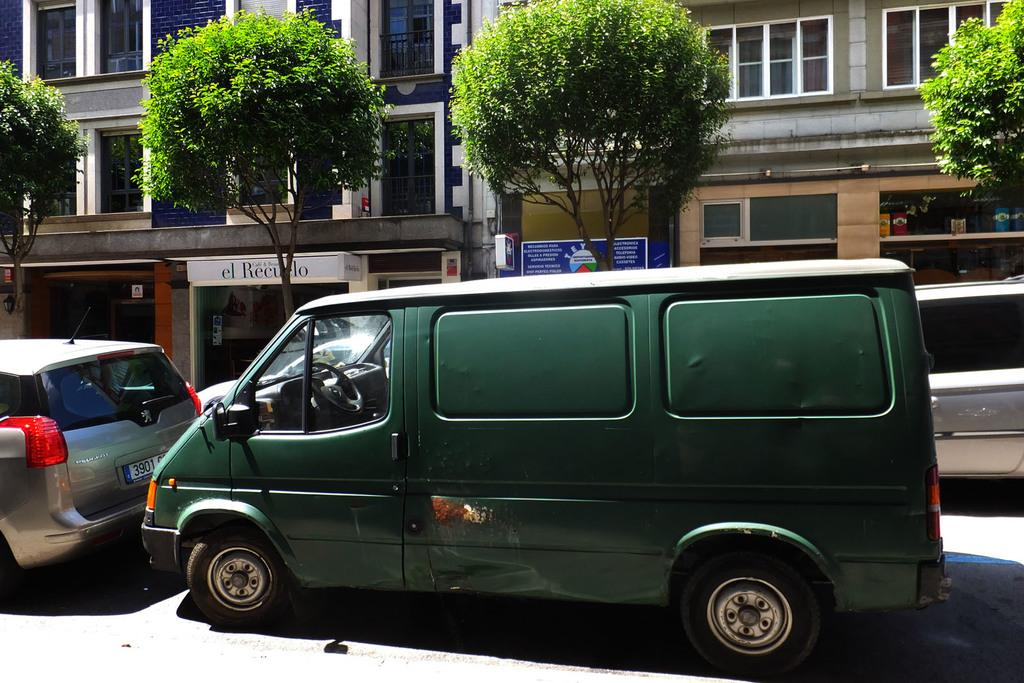vehicle: (145, 258, 954, 679), (0, 338, 201, 607)
